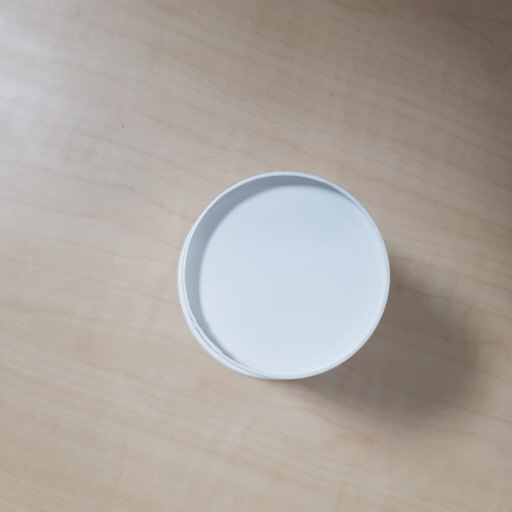Paper_1: (174, 167, 395, 378)
